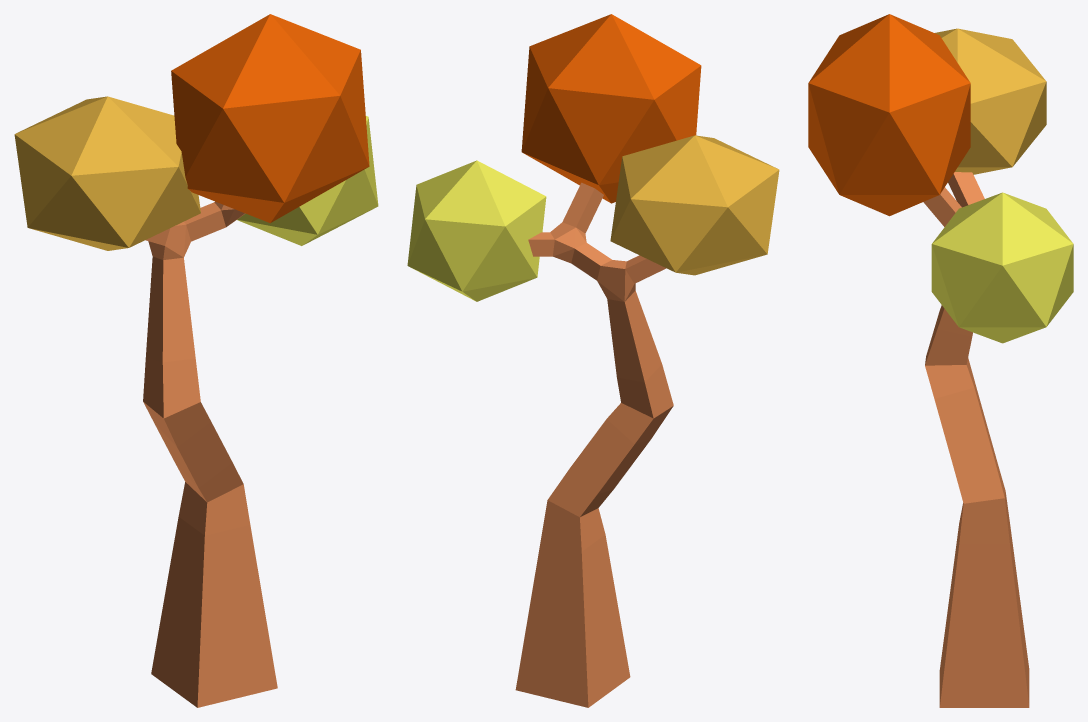
File: arvore3.fbx
3 views of the same model, side by side, from view 1: azimuth 30°, elevation 25°; view 2: azimuth 150°, elevation 25°; view 3: azimuth 270°, elevation 25° (orthographic). The views are drawn at different scales.
Parts seen in each view (by area): view 1: Cube, Icosphere.001, Icosphere, Icosphere.002; view 2: Cube, Icosphere.001, Icosphere, Icosphere.002; view 3: Icosphere.001, Cube, Icosphere.002, Icosphere.
Boxes of the visible parts, x1,y1,x2,y2 form: Cube: [143, 201, 277, 707]; Icosphere.001: [171, 14, 369, 223]; Icosphere: [14, 96, 200, 250]; Icosphere.002: [237, 116, 378, 245]; Cube: [515, 182, 673, 707]; Icosphere.001: [521, 14, 701, 203]; Icosphere: [610, 135, 779, 275]; Icosphere.002: [407, 160, 546, 301]; Icosphere.001: [808, 14, 970, 216]; Cube: [923, 172, 1029, 707]; Icosphere.002: [931, 192, 1073, 343]; Icosphere: [935, 28, 1046, 174].
Bounding box in the file's own units: 488 × 898 × 318.
